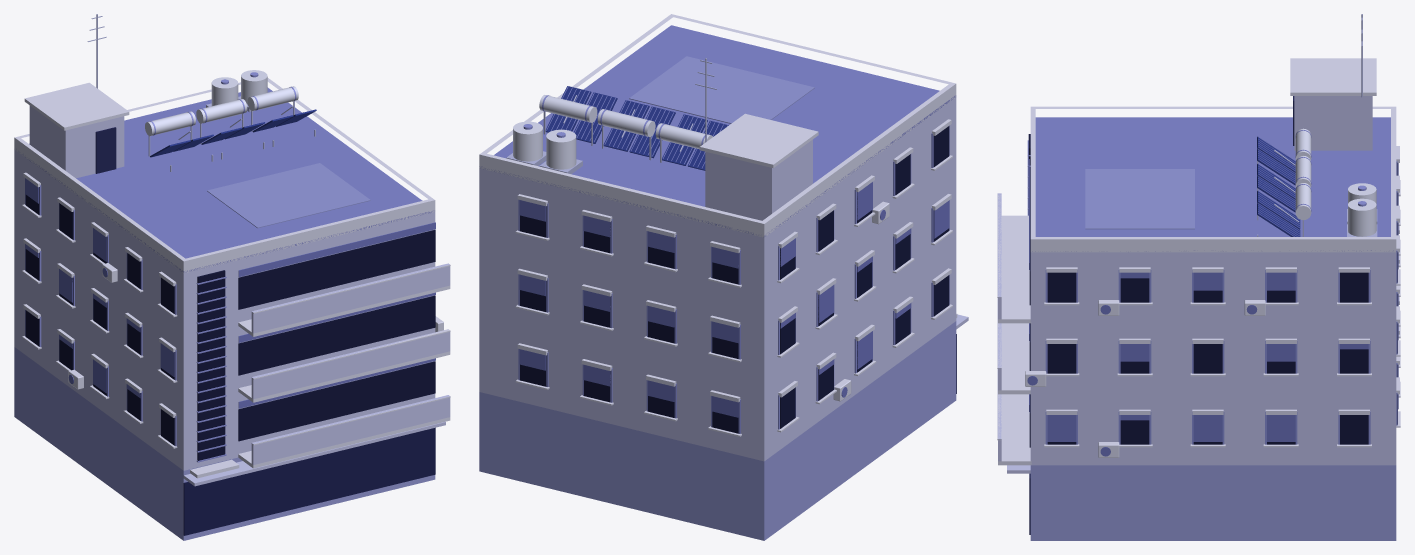
The model's file is blockE.glb.
The picture shows the model from 3 angles, left to right: view 1: azimuth 30°, elevation 25°; view 2: azimuth 150°, elevation 25°; view 3: azimuth 270°, elevation 25°; orthographic projection. The views are drawn at different scales.
Parts seen in each view (by area): view 1: baked2, baked3, baked7, baked5, baked0, baked1, baked12, baked6, baked10, baked4, baked9, baked8 (+1 smaller); view 2: baked2, baked0, baked7, baked5, baked3, baked6, baked12, baked4, baked10, baked9, baked11; view 3: baked2, baked7, baked0, baked5, baked3, baked12, baked6, baked4, baked9, baked10, baked11.
Boxes of the visible parts, box(x1,y1,x2,y2) form: baked2: box(14, 105, 450, 486); baked3: box(25, 187, 435, 460); baked7: box(14, 87, 434, 272); baked5: box(14, 78, 450, 478); baked0: box(14, 347, 435, 540); baked1: box(183, 427, 435, 535); baked12: box(207, 163, 370, 228); baked6: box(25, 178, 435, 408); baked10: box(145, 70, 298, 136); baked4: box(25, 72, 307, 462); baked9: box(150, 109, 316, 157); baked8: box(95, 127, 116, 173); baked2: box(479, 97, 968, 461); baked0: box(479, 321, 956, 540); baked7: box(479, 25, 956, 237); baked5: box(479, 14, 957, 436); baked3: box(520, 126, 949, 433); baked6: box(519, 182, 949, 417); baked12: box(629, 56, 814, 123); baked4: box(518, 86, 949, 433); baked10: box(513, 95, 712, 169); baked9: box(545, 86, 728, 170); baked11: box(506, 58, 716, 174); baked2: box(998, 96, 1396, 473); baked7: box(1032, 117, 1393, 251); baked0: box(1030, 465, 1396, 540); baked5: box(997, 58, 1400, 465); baked3: box(1028, 134, 1397, 447); baked12: box(1085, 169, 1194, 229); baked6: box(1027, 159, 1398, 456); baked4: box(1027, 130, 1397, 444); baked9: box(1257, 136, 1300, 236); baked10: box(1295, 128, 1376, 236); baked11: box(1257, 14, 1377, 236).
Size of the model in its own units: 12.68 by 18.15 by 15.44.
